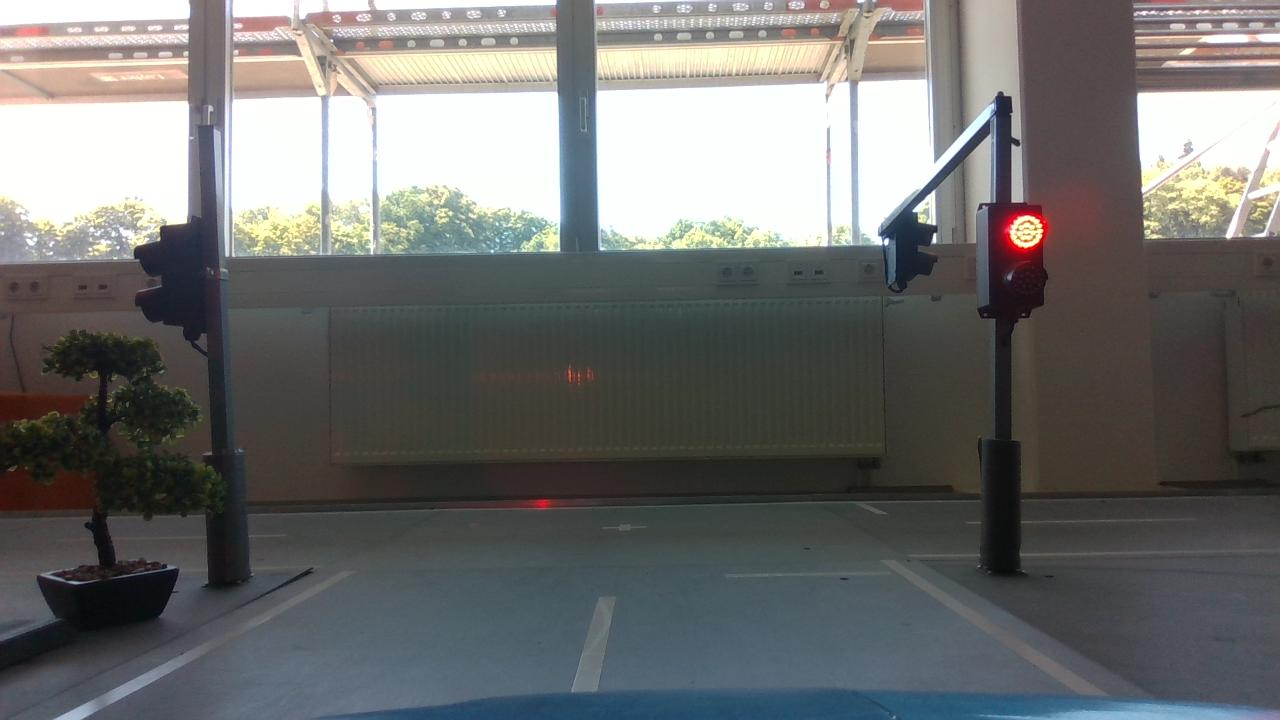traffic_light_red: (966, 194, 1063, 339)
